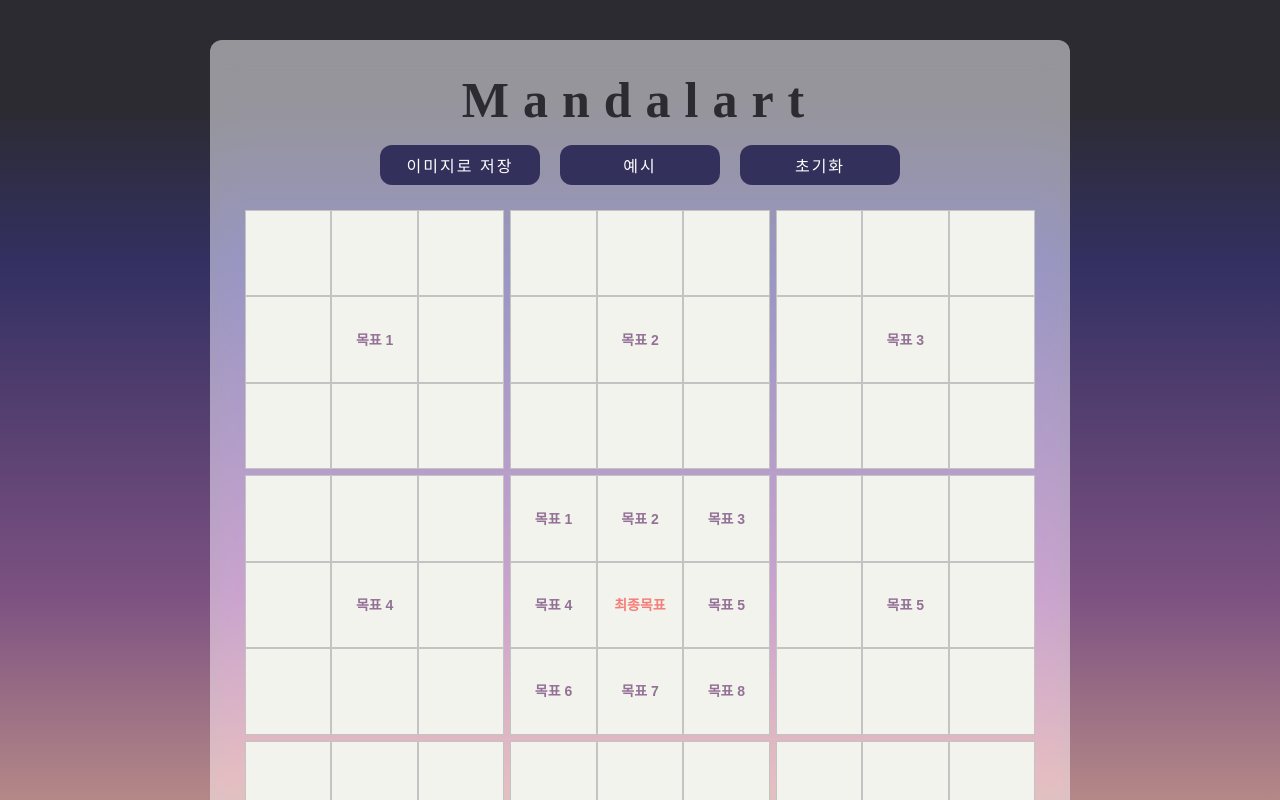
Test: 만다라트 페이지 › 상호작용에 대한 액션 › 예시를 모달에서 볼 수 있다
The image size is (1280, 800).
Click the button "예시" at (640,165), box [560,145,720,185]
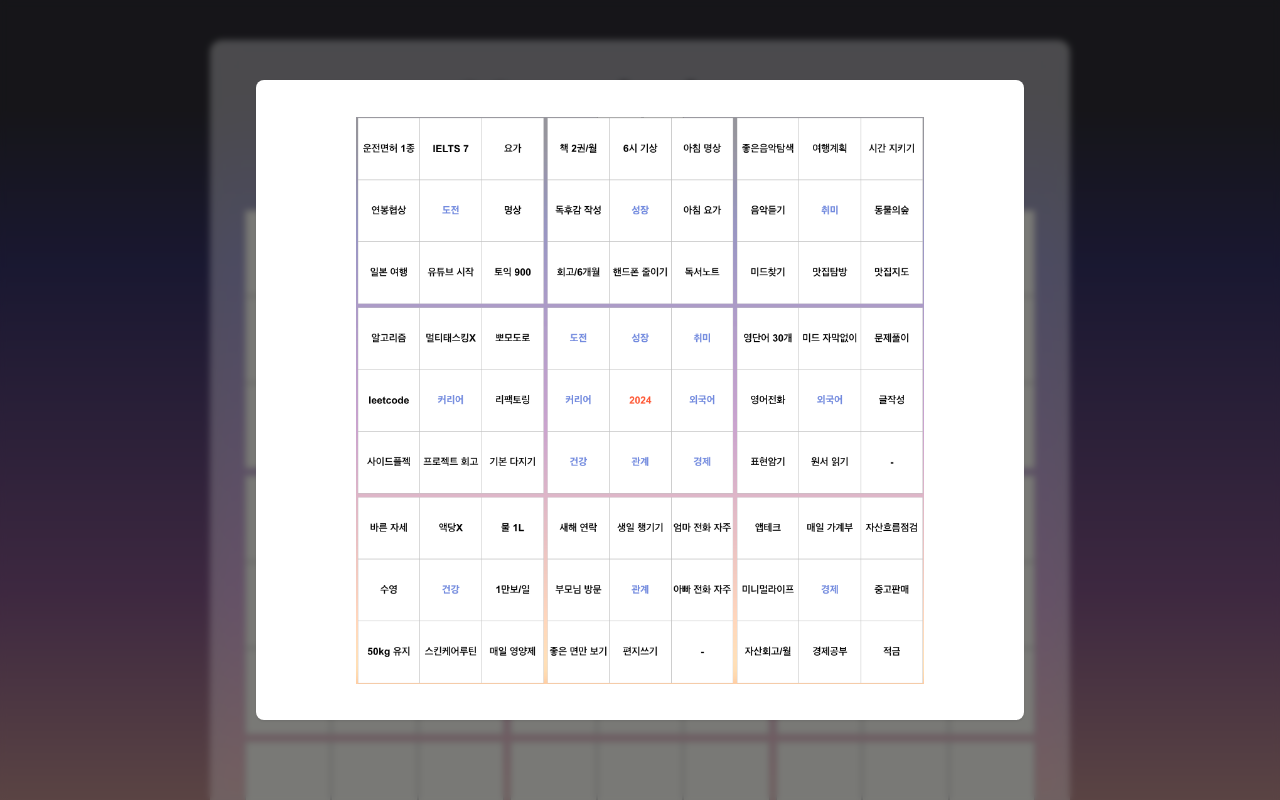
Now the picture with alt text "maldalart example" is shown, box [356,116,924,684]
